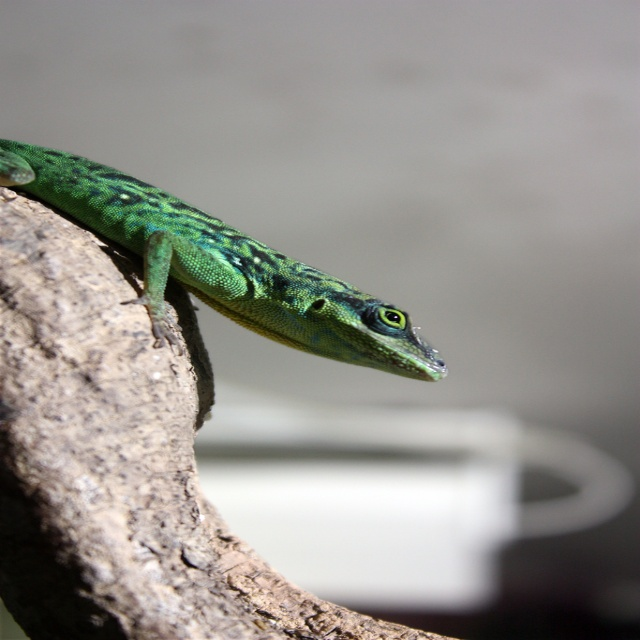Lizard: (1, 136, 448, 376)
